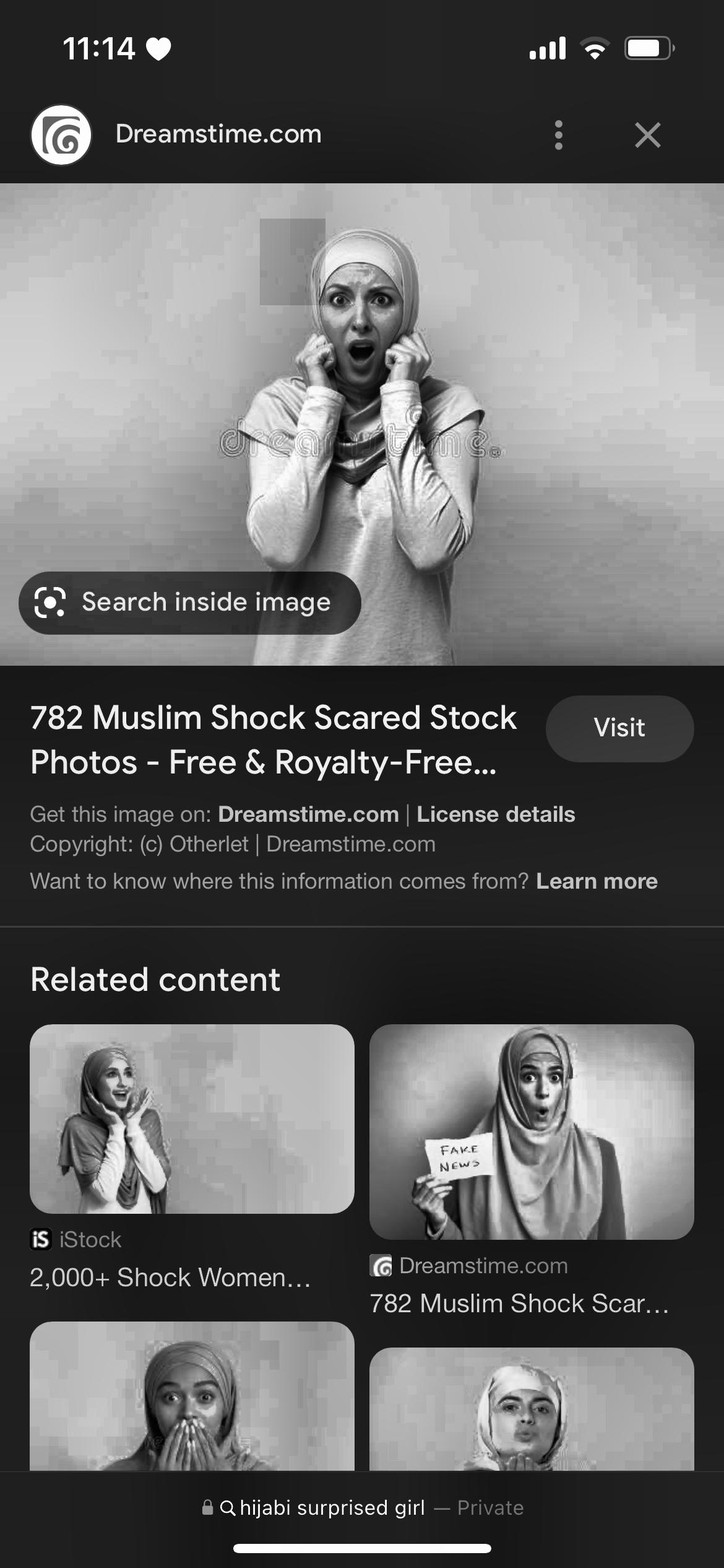surprised: (322, 270, 402, 377)
